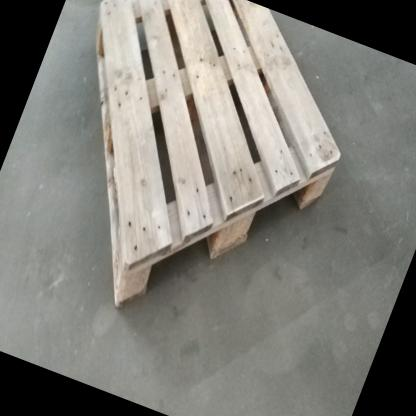BoxFace: (90, 0, 345, 318)
